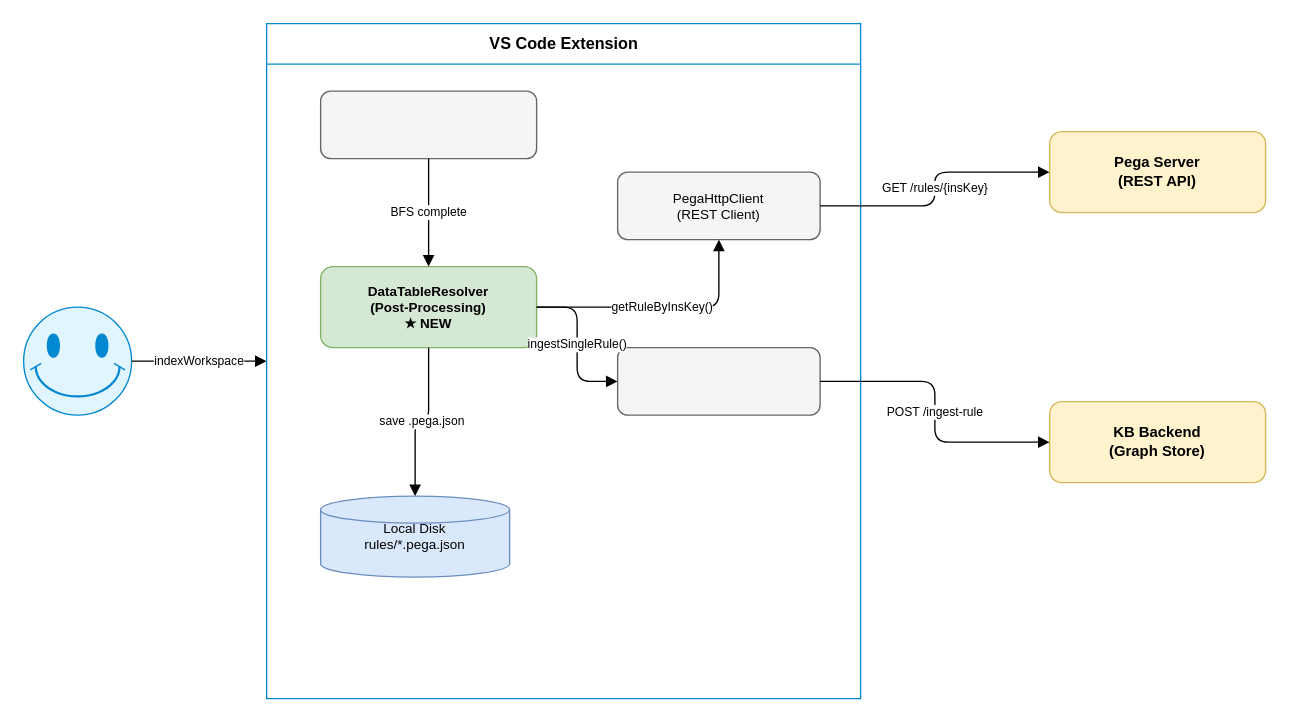
This 1289x722 diagram has some shape labels left out. Each missing label, with the centre of its shape:
Developer: point (77, 360)
PegaBfsIndexer (BFS Loop): point (428, 124)
PegaStreamIngester (KB Ingest): point (718, 380)
